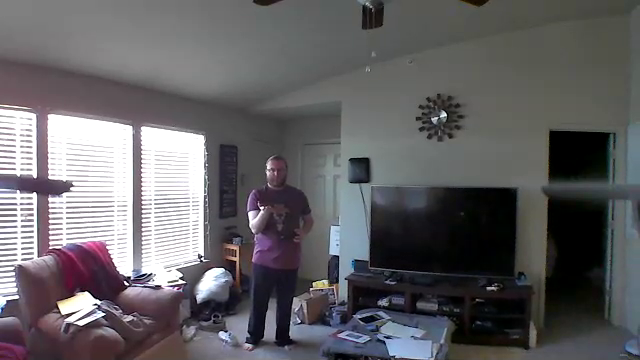land: (254, 200, 277, 215)
